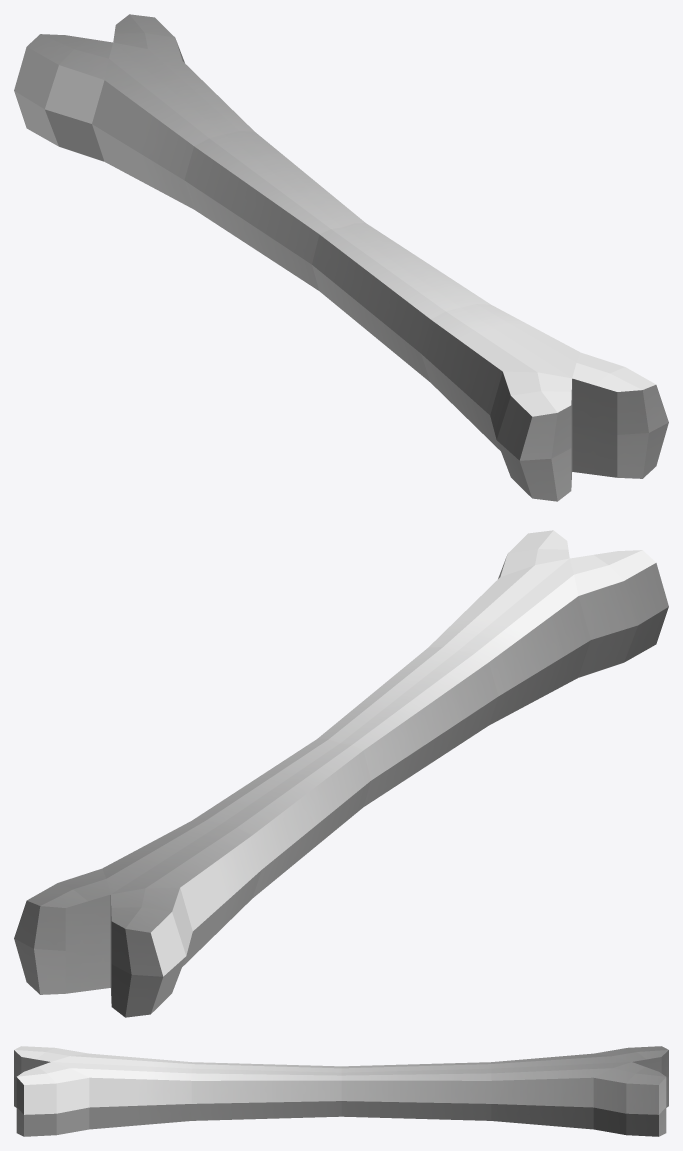
The model's file is Bone_01.fbx.
The picture shows the model from 3 angles, top to bottom: view 1: azimuth 30°, elevation 25°; view 2: azimuth 150°, elevation 25°; view 3: azimuth 270°, elevation 25°; orthographic projection. The views are drawn at different scales.
Parts seen in each view (by area): view 1: Bone_01; view 2: Bone_01; view 3: Bone_01.
Part boxes in pixels (<box>): Bone_01: <box>14,14,668,501</box>; Bone_01: <box>14,530,668,1017</box>; Bone_01: <box>14,1046,668,1136</box>.
Bounding box in the file's own units: 7.3 × 4.3 × 43.2.
